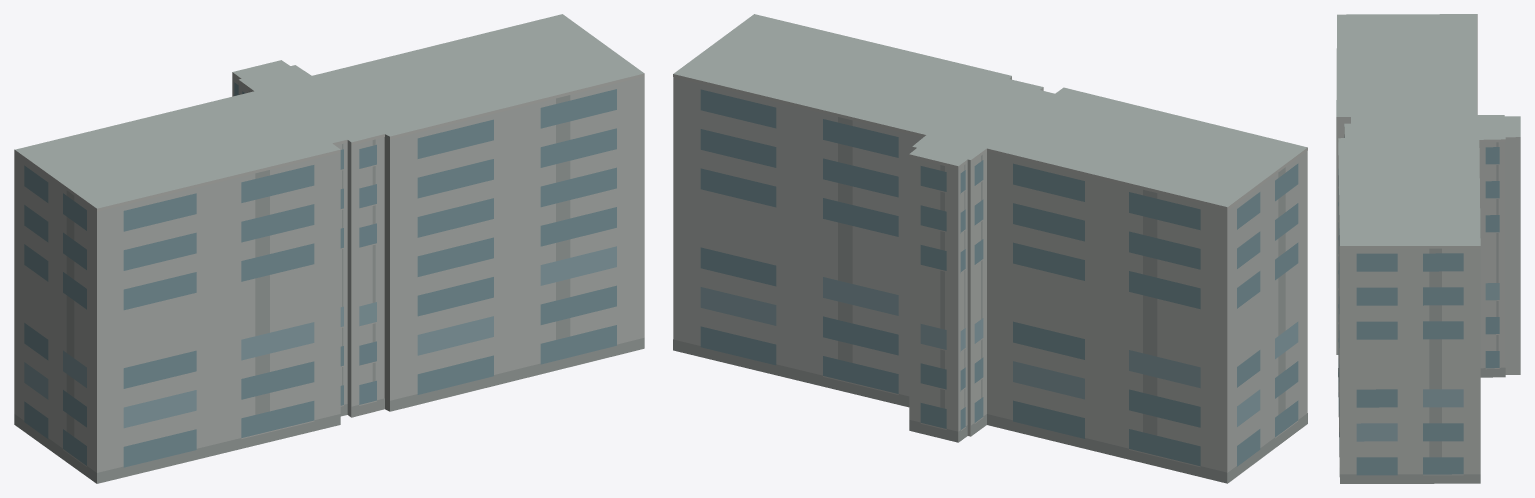
Rendered from survey-upis-32614957.glb.
3 views of the same model, side by side, from view 1: azimuth 30°, elevation 25°; view 2: azimuth 150°, elevation 25°; view 3: azimuth 270°, elevation 25° (orthographic). The views are drawn at different scales.
Visible parts, largest first — view 1: survey-upis-32614957.tmp; view 2: survey-upis-32614957.tmp; view 3: survey-upis-32614957.tmp.
Part boxes in pixels (left/top/right/bottom): survey-upis-32614957.tmp: left=14, top=14, right=644, bottom=483; survey-upis-32614957.tmp: left=673, top=14, right=1307, bottom=483; survey-upis-32614957.tmp: left=1336, top=14, right=1520, bottom=483.
Bounding box in the file's own units: 45.56 × 21.76 × 15.29.
